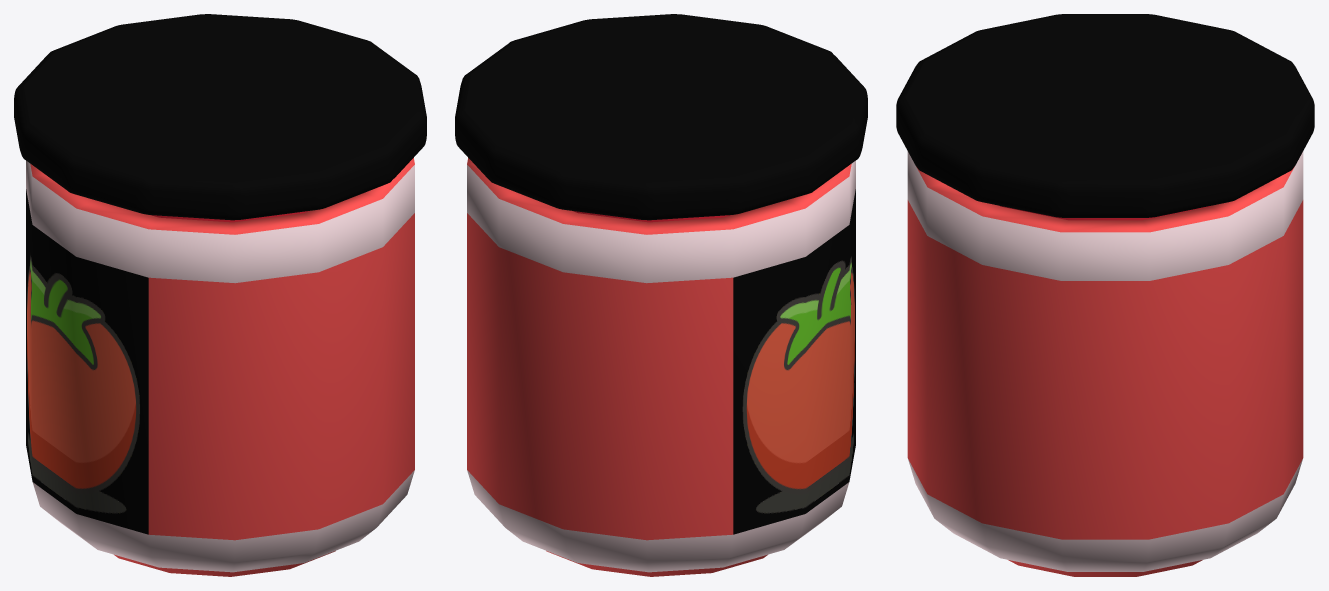
File: toples bibit tomat.fbx
3 views of the same model, side by side, from view 1: azimuth 30°, elevation 25°; view 2: azimuth 150°, elevation 25°; view 3: azimuth 270°, elevation 25° (orthographic).
Visible parts, largest first — view 1: Cylinder.045, Cylinder.046; view 2: Cylinder.045, Cylinder.046; view 3: Cylinder.045, Cylinder.046.
Boxes of the visible parts, x1,y1,x2,y2 form: Cylinder.045: (26, 158, 414, 576); Cylinder.046: (14, 14, 426, 222); Cylinder.045: (467, 158, 855, 576); Cylinder.046: (455, 14, 867, 222); Cylinder.045: (907, 151, 1303, 576); Cylinder.046: (896, 14, 1314, 220).
Bounding box in the file's own units: 208 × 236 × 211.
4 materials, 1 textured.
